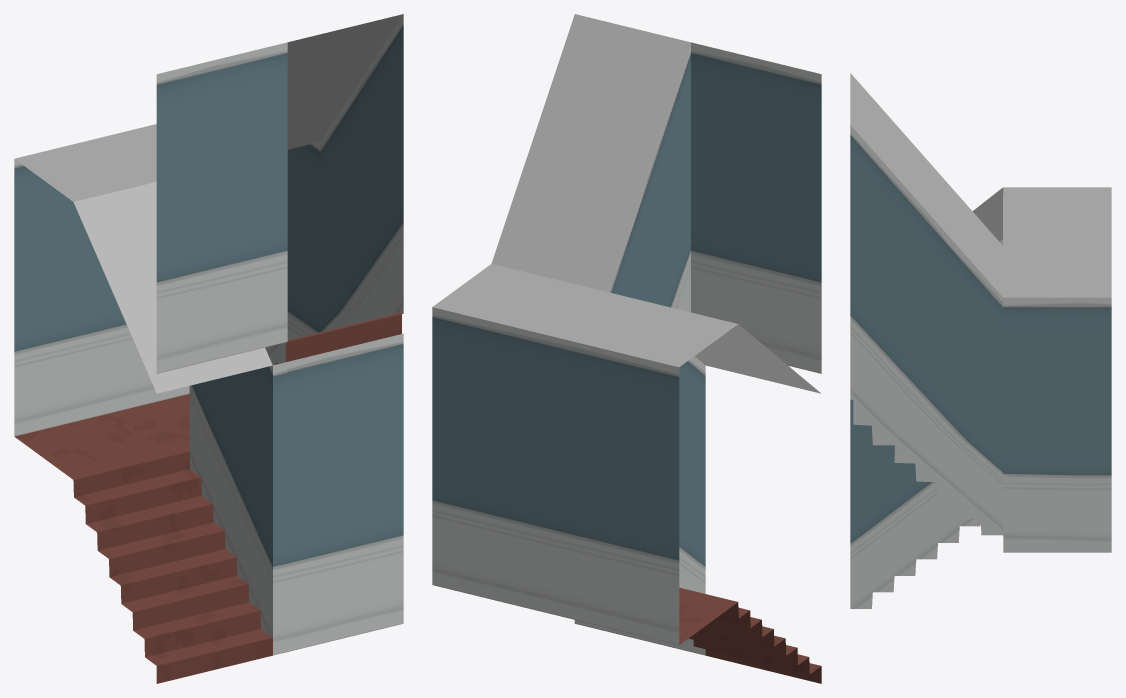
The model's file is SM_Bld_House_Interior_Stairs_02.fbx.
3 renders of one model, left to right at view 1: azimuth 30°, elevation 25°; view 2: azimuth 150°, elevation 25°; view 3: azimuth 270°, elevation 25°, orthographic. The views are drawn at different scales.
Parts seen in each view (by area): view 1: SM_Bld_House_Interior_Stairs_02; view 2: SM_Bld_House_Interior_Stairs_02; view 3: SM_Bld_House_Interior_Stairs_02.
Part boxes in pixels (left/top/right/bottom): SM_Bld_House_Interior_Stairs_02: left=14, top=14, right=403, bottom=683; SM_Bld_House_Interior_Stairs_02: left=432, top=14, right=821, bottom=683; SM_Bld_House_Interior_Stairs_02: left=850, top=73, right=1111, bottom=608.
Size of the model in its own units: 250 by 590 by 250.
